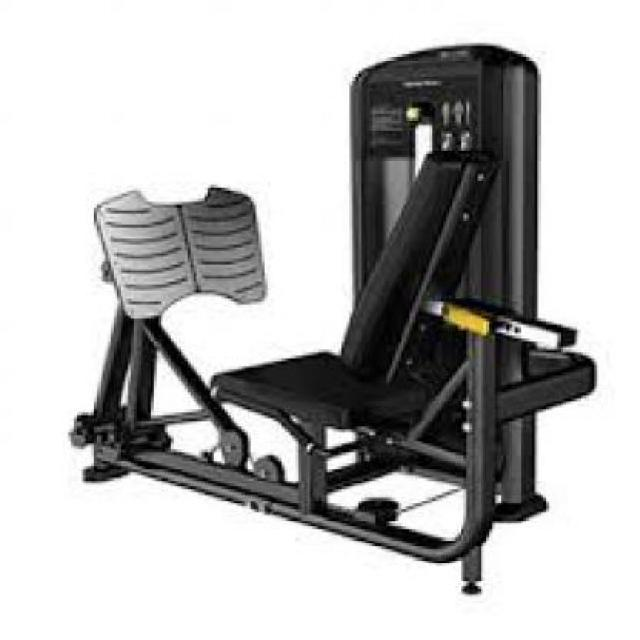leg press: (59, 37, 602, 603)
